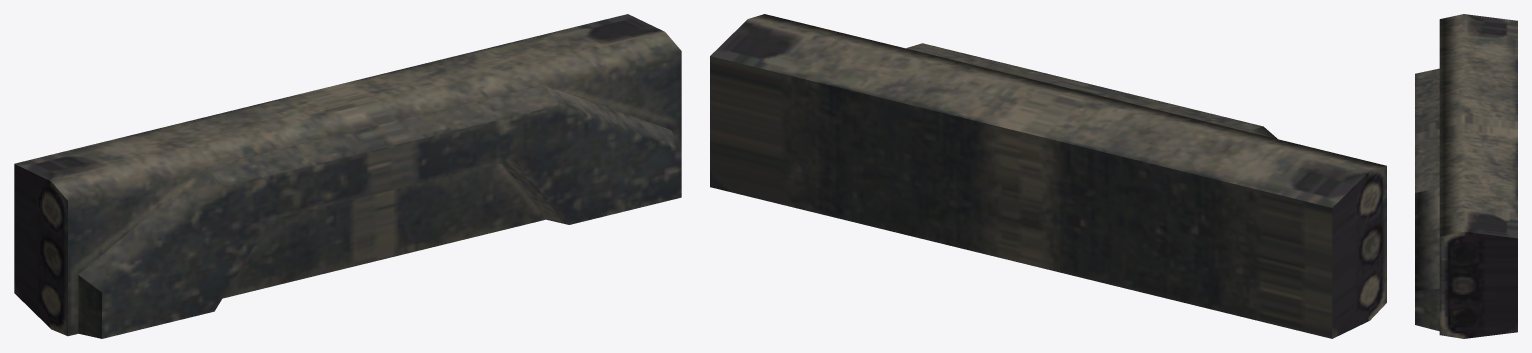
3 renders of one model, left to right at view 1: azimuth 30°, elevation 25°; view 2: azimuth 150°, elevation 25°; view 3: azimuth 270°, elevation 25°, orthographic. The views are drawn at different scales.
Visible parts, largest first — view 1: set_0_group_0; view 2: set_0_group_0; view 3: set_0_group_0.
Part boxes in pixels (<box>): set_0_group_0: <box>14,14,681,338</box>; set_0_group_0: <box>710,14,1386,338</box>; set_0_group_0: <box>1415,14,1517,338</box>.
Size of the model in its own units: 0.6164 by 0.1418 by 0.1232.
1 material, 1 textured.
